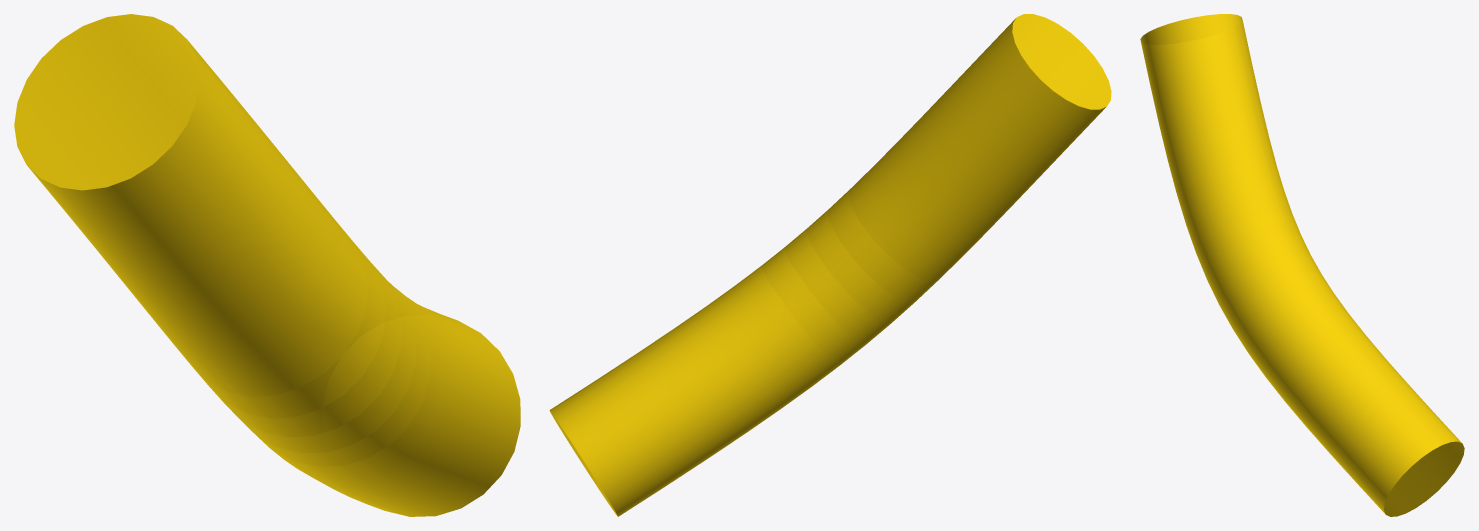
File: Event_420604493_track_11.fbx
3 renders of one model, left to right at view 1: azimuth 30°, elevation 25°; view 2: azimuth 150°, elevation 25°; view 3: azimuth 270°, elevation 25°, orthographic. The views are drawn at different scales.
Visible parts, largest first — view 1: Model; view 2: Model; view 3: Model.
Boxes of the visible parts, x1,y1,x2,y2 form: Model: [14, 14, 520, 516]; Model: [549, 14, 1111, 516]; Model: [1140, 14, 1464, 516].
Size of the model in its own units: 0.1545 by 0.1625 by 0.1238.
